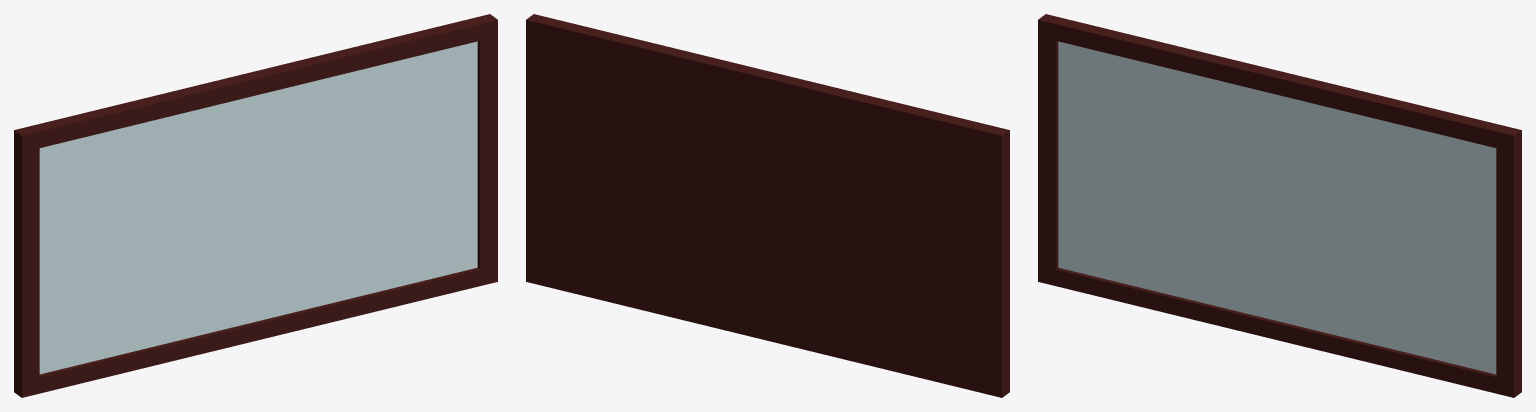
Rendered from Itr_Obj_Monitor_LCD_Screen_On_02.FBX.
The picture shows the model from 3 angles, left to right: view 1: azimuth 30°, elevation 25°; view 2: azimuth 150°, elevation 25°; view 3: azimuth 330°, elevation 25°; orthographic projection.
Visible parts, largest first — view 1: Itr_Obj_Monitor_LCD_Screen_On_02; view 2: Itr_Obj_Monitor_LCD_Screen_On_02; view 3: Itr_Obj_Monitor_LCD_Screen_On_02.
Boxes of the visible parts, x1=… form: Itr_Obj_Monitor_LCD_Screen_On_02: x1=14, y1=14, x2=497, y2=397; Itr_Obj_Monitor_LCD_Screen_On_02: x1=526, y1=14, x2=1009, y2=397; Itr_Obj_Monitor_LCD_Screen_On_02: x1=1038, y1=14, x2=1521, y2=397.
Size of the model in its own units: 66.79 by 35.13 by 1.92.
